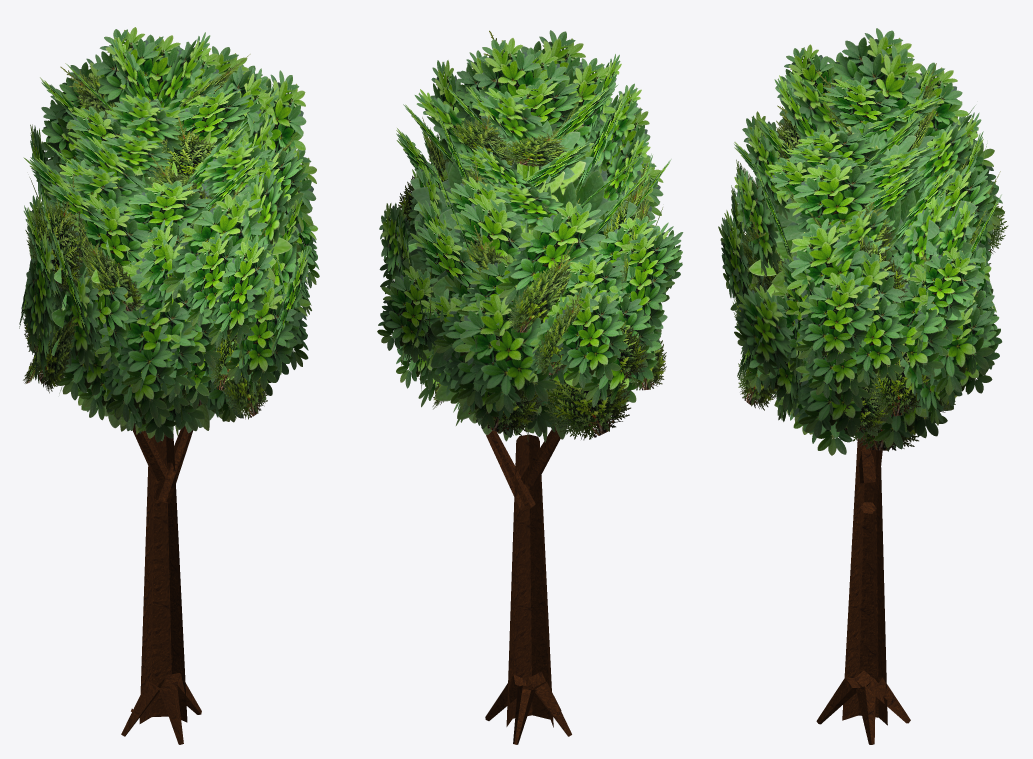
File: tree_broadleaf_03_real.gltf
3 renders of one model, left to right at view 1: azimuth 30°, elevation 25°; view 2: azimuth 150°, elevation 25°; view 3: azimuth 270°, elevation 25°, orthographic. The views are drawn at different scales.
Visible parts, largest first — view 1: tree_broadleaf_03; view 2: tree_broadleaf_03; view 3: tree_broadleaf_03.
Boxes of the visible parts, x1,y1,x2,y2 form: tree_broadleaf_03: (19,27,319,744); tree_broadleaf_03: (377,30,683,744); tree_broadleaf_03: (718,28,1008,744).
Size of the model in its own units: 3.45 by 8.03 by 3.27.
2 materials, 2 textured.
